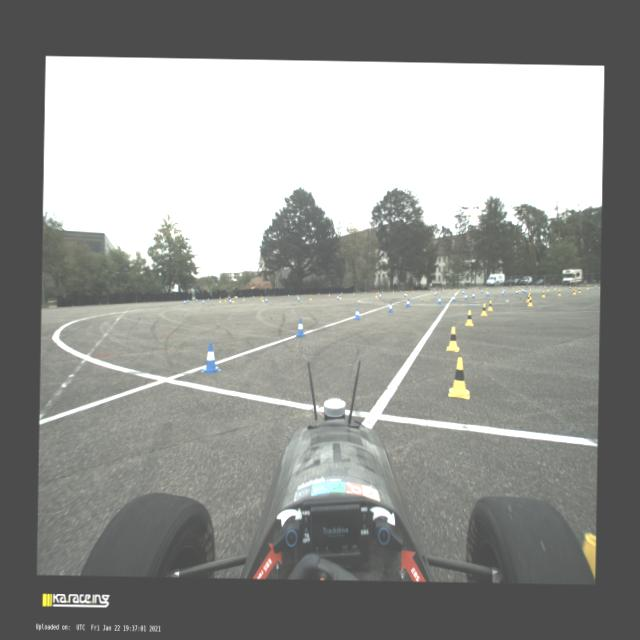blue_cone: (200, 342, 221, 373), (295, 318, 305, 337), (353, 307, 360, 320), (387, 301, 393, 312), (437, 296, 442, 304), (406, 298, 410, 307), (463, 293, 468, 300), (452, 294, 456, 302), (228, 298, 232, 304), (296, 296, 300, 301), (264, 297, 268, 302), (378, 293, 382, 298), (434, 290, 437, 296), (486, 290, 489, 296), (336, 294, 339, 300), (515, 289, 518, 294), (183, 299, 186, 304), (186, 298, 189, 303), (472, 291, 474, 298), (481, 288, 483, 294), (501, 290, 504, 294), (524, 288, 526, 294), (521, 288, 524, 292), (195, 298, 198, 302), (202, 298, 204, 304), (252, 295, 255, 299), (502, 288, 505, 292), (225, 297, 228, 300), (404, 292, 406, 296), (462, 290, 464, 294), (288, 294, 290, 298), (318, 292, 320, 296), (207, 297, 209, 301), (594, 284, 596, 288), (568, 285, 570, 289), (550, 285, 552, 289), (364, 290, 366, 294), (472, 286, 474, 290), (488, 286, 490, 290), (399, 290, 402, 292), (472, 287, 474, 290), (544, 286, 546, 288), (540, 286, 542, 288), (418, 288, 419, 292), (340, 292, 342, 294), (504, 286, 505, 288), (382, 290, 382, 293), (448, 287, 448, 290)
yellow_cone: (448, 357, 470, 399), (446, 326, 460, 352), (464, 309, 474, 326), (480, 302, 488, 316), (487, 300, 493, 311), (528, 297, 534, 306), (540, 290, 546, 298), (526, 292, 530, 302), (557, 288, 561, 296), (572, 288, 576, 294), (218, 296, 222, 302), (338, 294, 342, 299), (553, 284, 556, 290), (309, 294, 312, 300), (546, 286, 549, 291), (586, 284, 589, 289), (578, 287, 580, 293), (224, 296, 226, 302), (242, 296, 245, 300), (375, 292, 377, 298), (405, 290, 407, 296), (518, 286, 520, 292), (574, 286, 576, 292), (232, 297, 234, 302), (262, 296, 264, 301), (296, 293, 298, 297), (260, 295, 262, 299), (328, 292, 330, 296), (352, 291, 354, 295), (377, 290, 379, 294), (430, 288, 432, 292), (454, 289, 456, 293), (474, 286, 476, 290), (484, 288, 486, 292), (486, 286, 488, 290), (516, 285, 518, 289), (529, 286, 531, 290), (392, 290, 394, 293), (412, 289, 414, 292), (449, 288, 451, 291), (512, 286, 514, 289), (521, 286, 523, 289), (500, 286, 502, 288), (520, 286, 522, 288)
